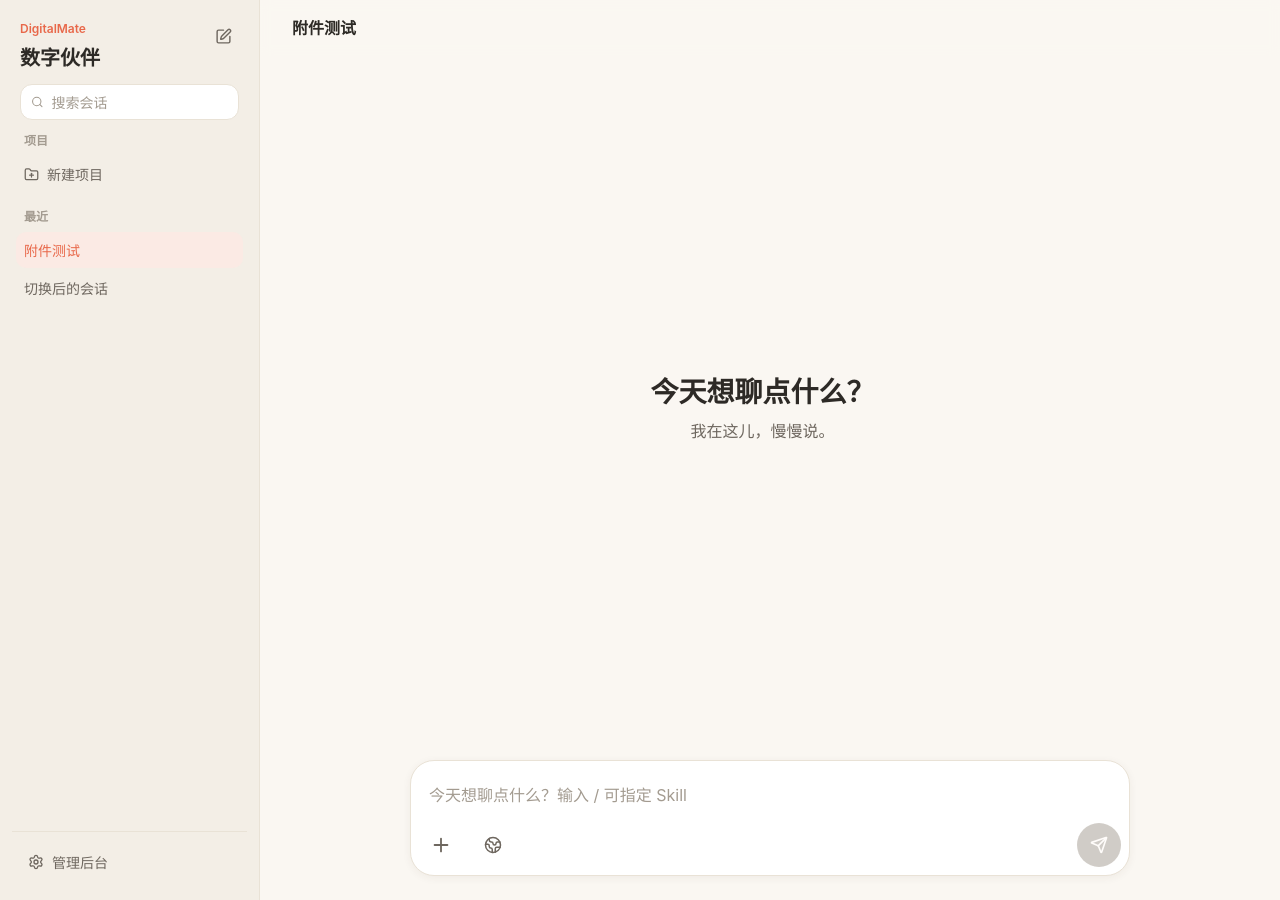
Test: ChatShell attachment submit › does not let late accepted and done events take over a conversation selected during streaming
The width and height of the screenshot is (1280, 900).
Type "旧会话请求" into the text box named "输入消息" at (770,796), box top-left (419, 775), bottom-right (1121, 817)
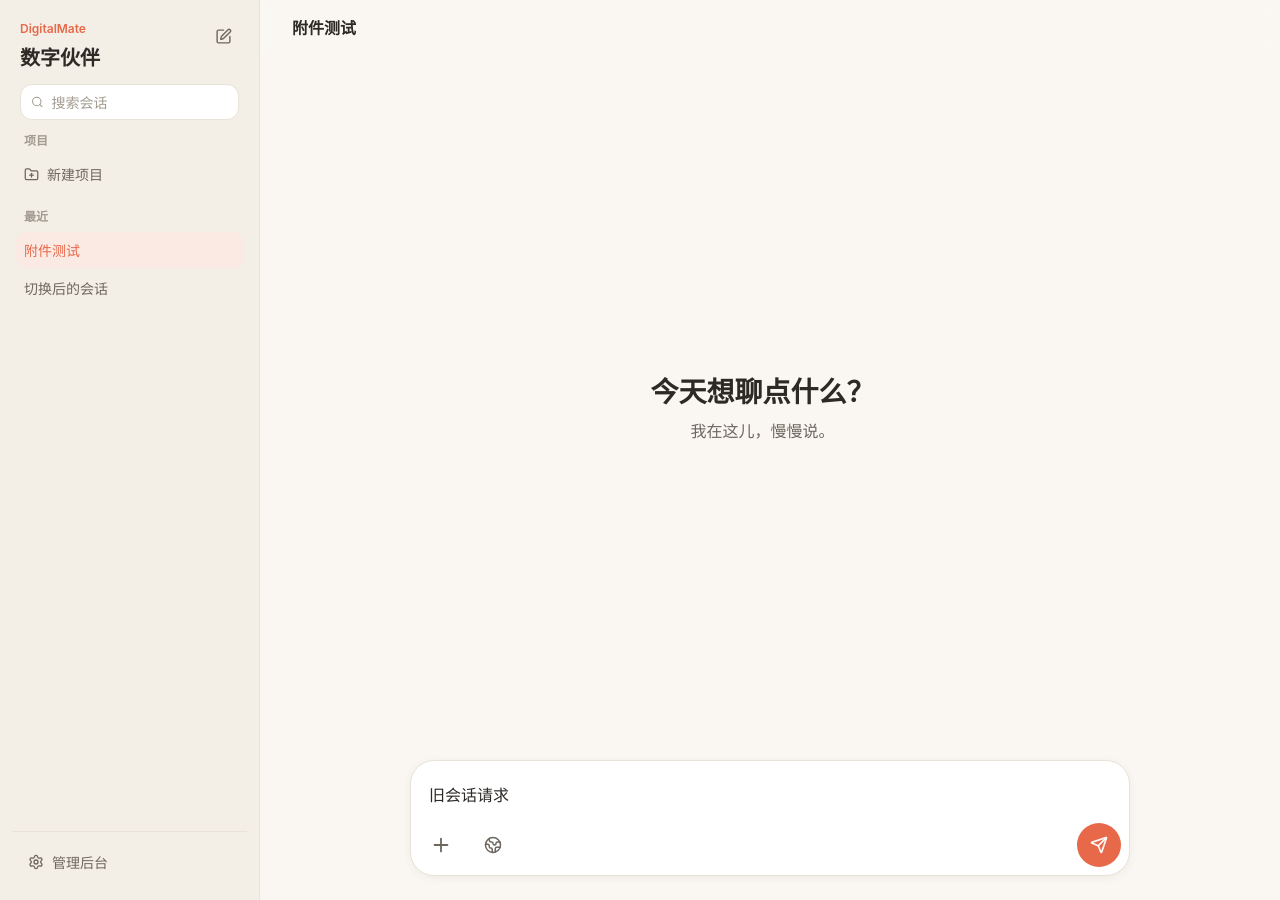
Click the button named "发送" at (1099,845), box top-left (1077, 823), bottom-right (1121, 867)
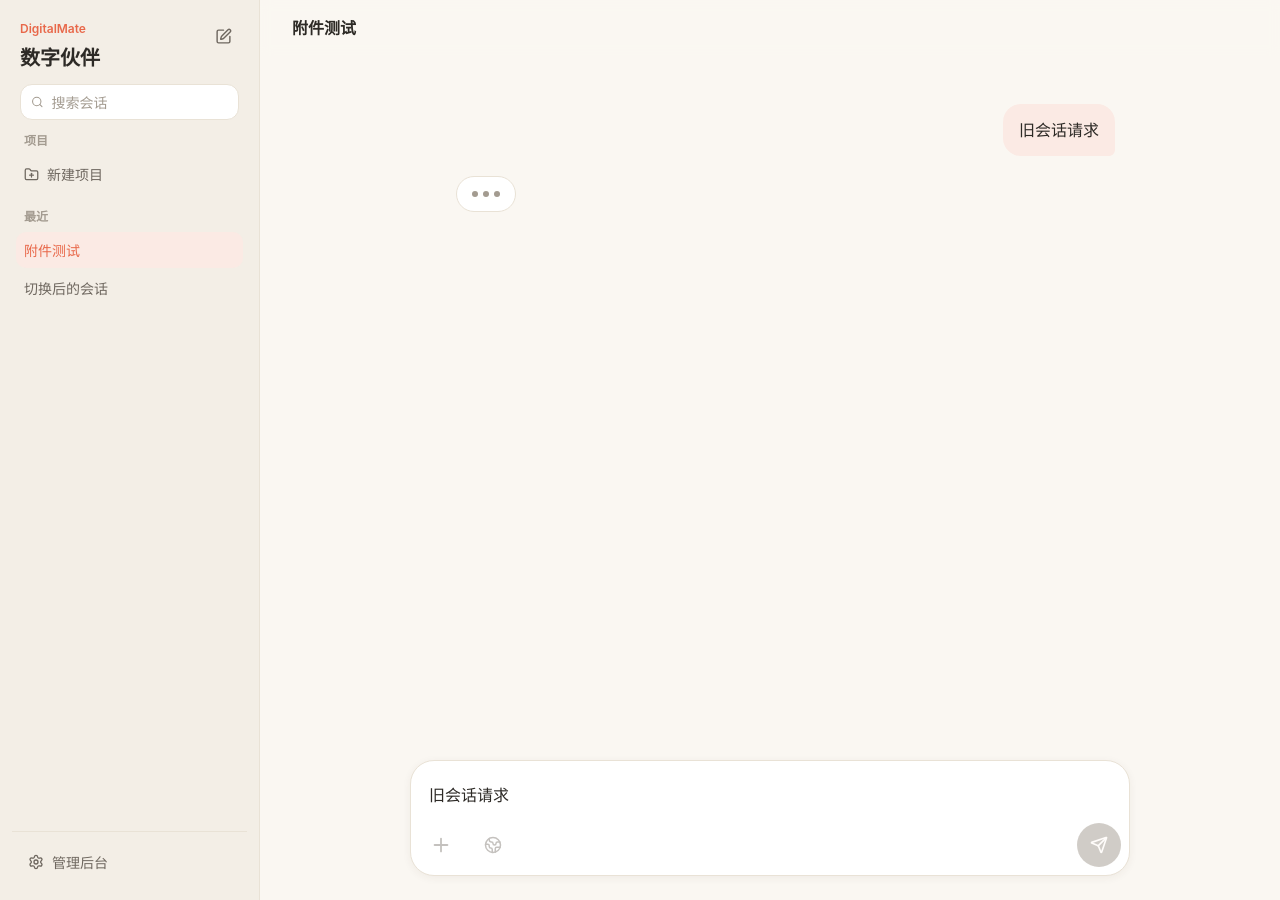
Click the button "切换后的会话" at (112,288), box top-left (16, 270), bottom-right (207, 306)
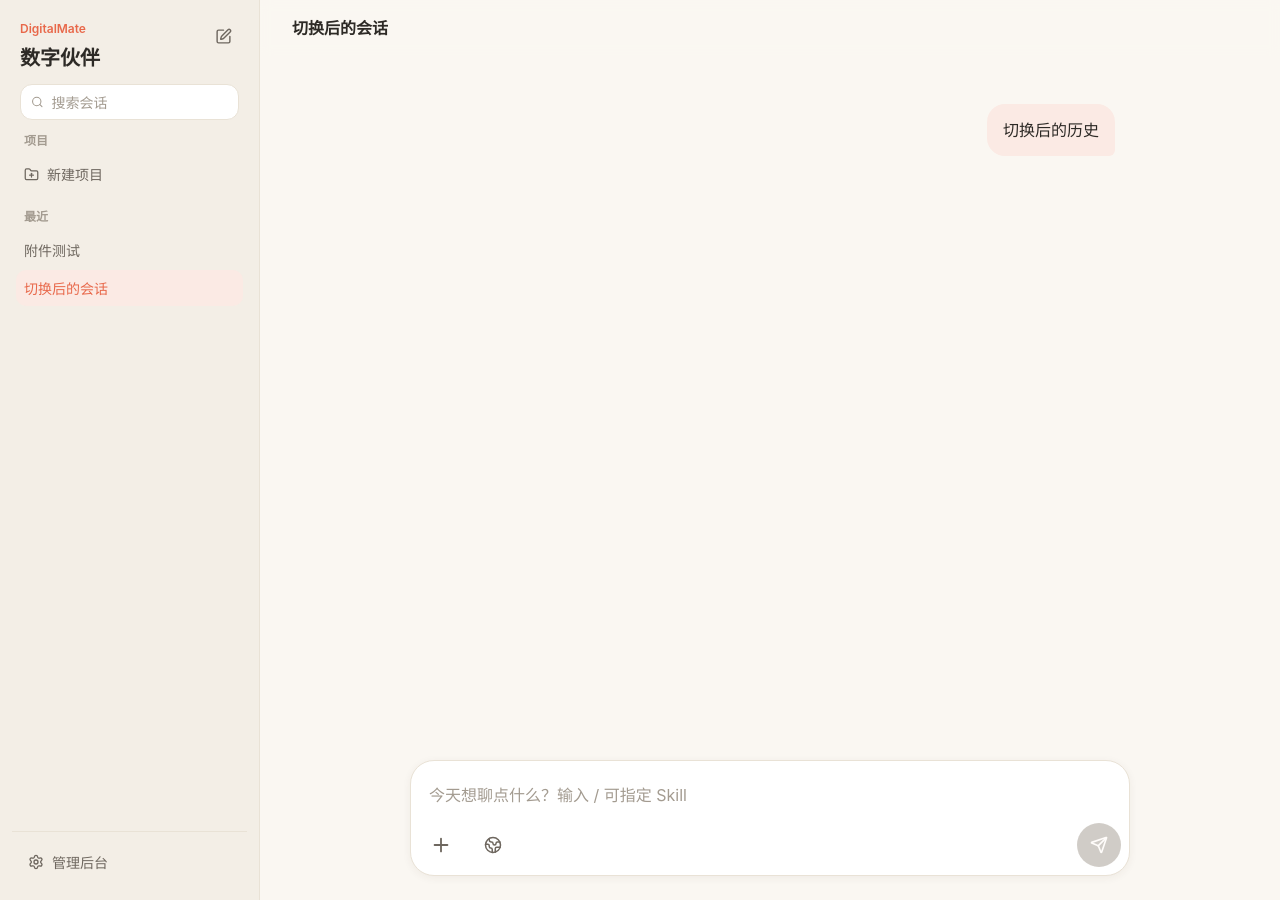
Expected: the text "切换后的会话" below "最近" is shown, top-left (24, 280), bottom-right (108, 296)
Result: the text "切换后的历史" is shown at top-left (1003, 116), bottom-right (1099, 144)
Result: the text "旧会话请求" is gone
